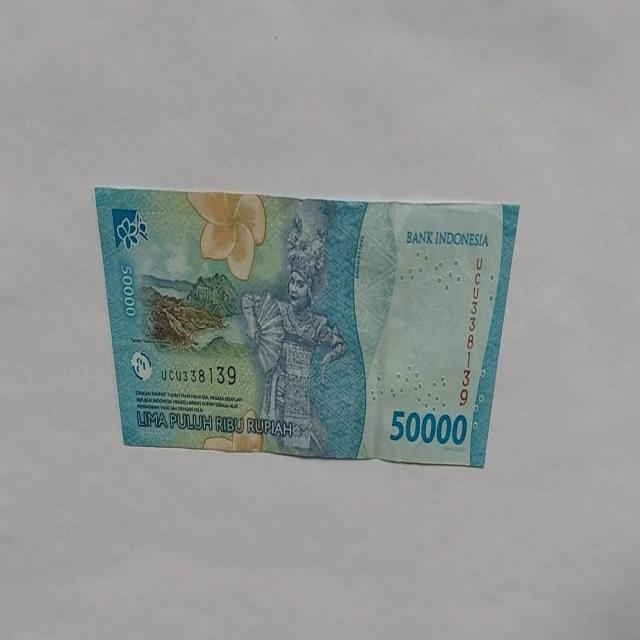lima puluh ribu rupiah: (93, 186, 520, 468)
